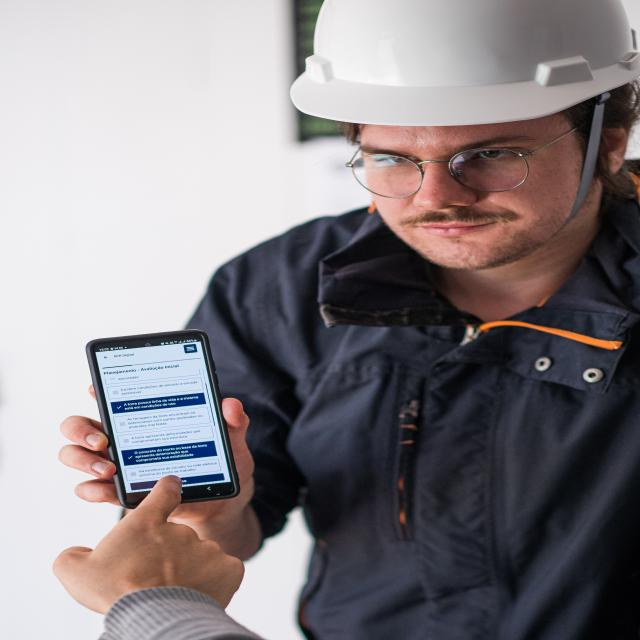capacete: (284, 0, 640, 130)
